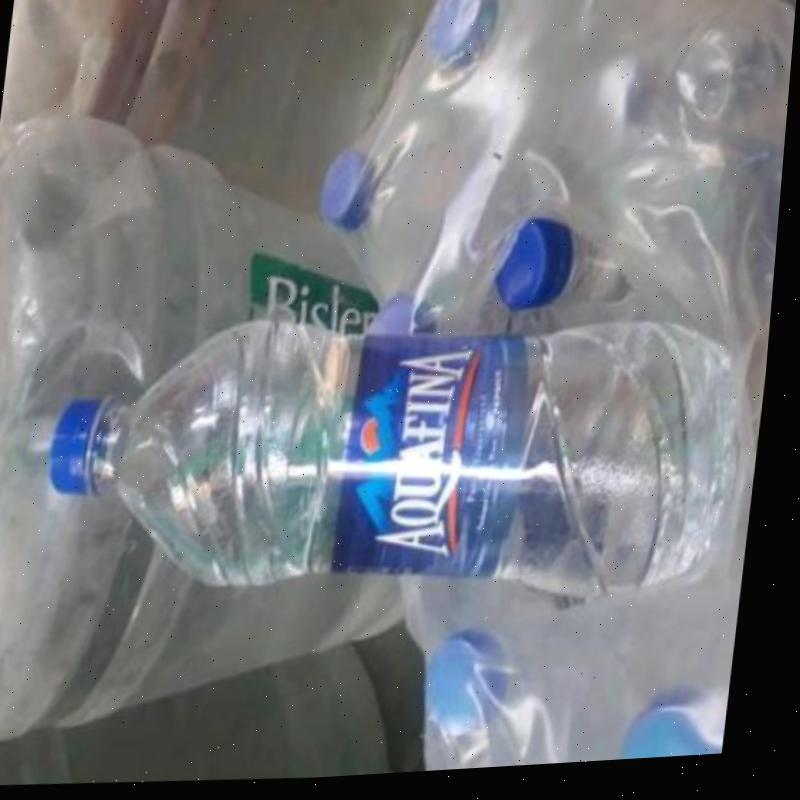botella: (43, 293, 751, 614), (490, 210, 650, 328), (428, 619, 547, 762), (316, 134, 402, 250), (618, 698, 741, 769), (416, 0, 513, 77), (362, 295, 458, 342)
